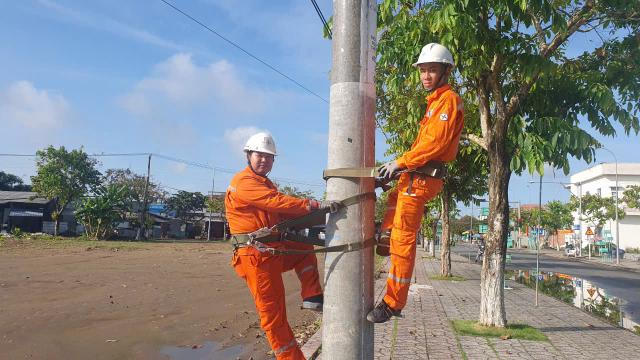gloves: (300, 195, 344, 219), (378, 156, 407, 178)
harness: (220, 223, 297, 248), (406, 148, 448, 183)
helmet: (406, 38, 458, 76), (234, 128, 284, 159)
shoes: (366, 302, 413, 328), (372, 226, 402, 263), (300, 293, 339, 318)
